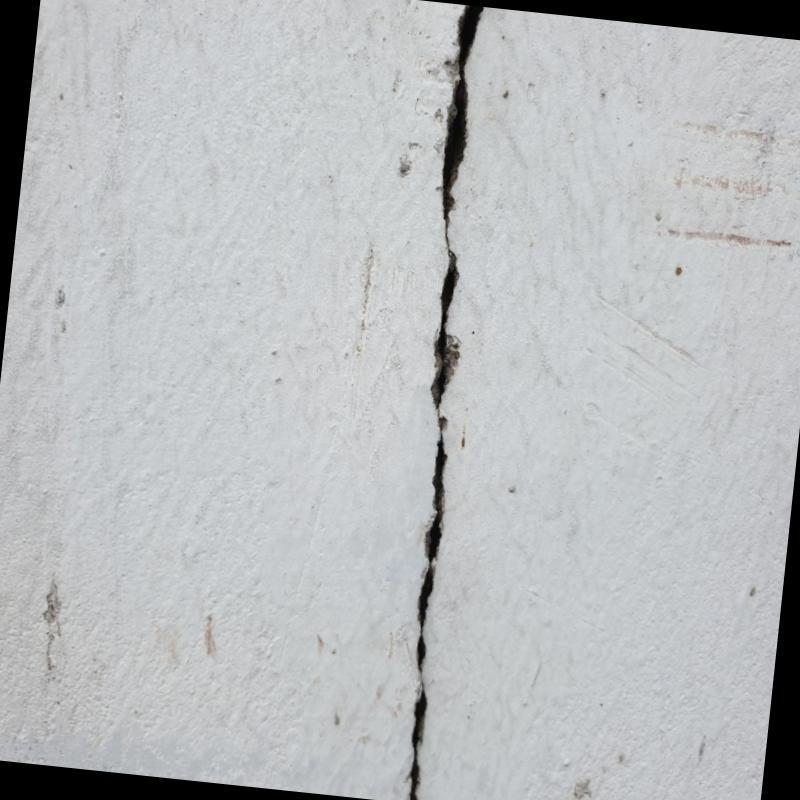pothole: (406, 10, 486, 800)
